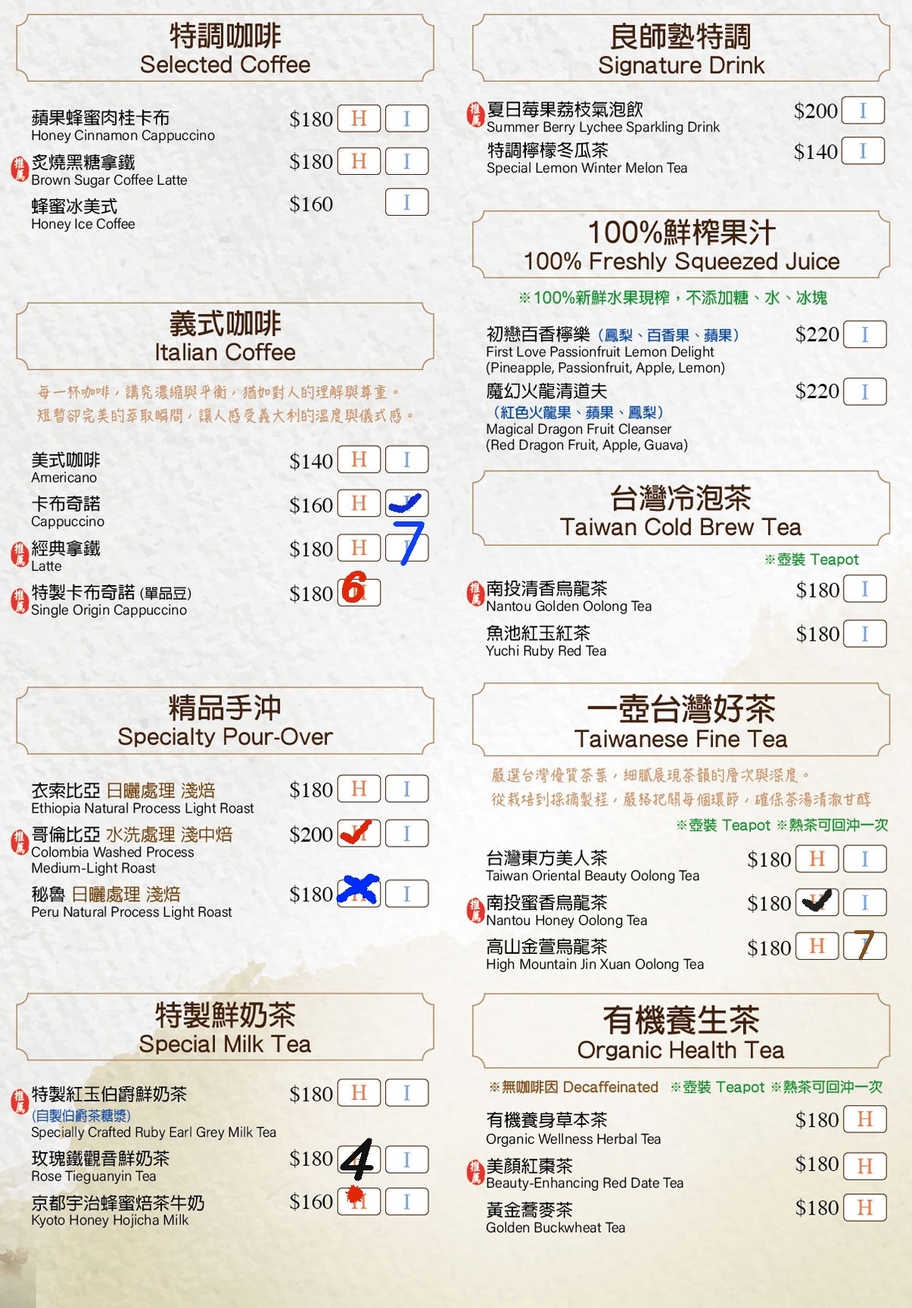marked_circle: (340, 1189, 379, 1212)
marked_number_4: (340, 1146, 379, 1170)
marked_number_6: (339, 579, 378, 603)
marked_number_7: (844, 934, 883, 958), (388, 535, 426, 559)
marked_tick: (388, 491, 426, 515), (799, 892, 838, 915), (339, 822, 378, 845)
marked_x: (338, 879, 377, 903)
